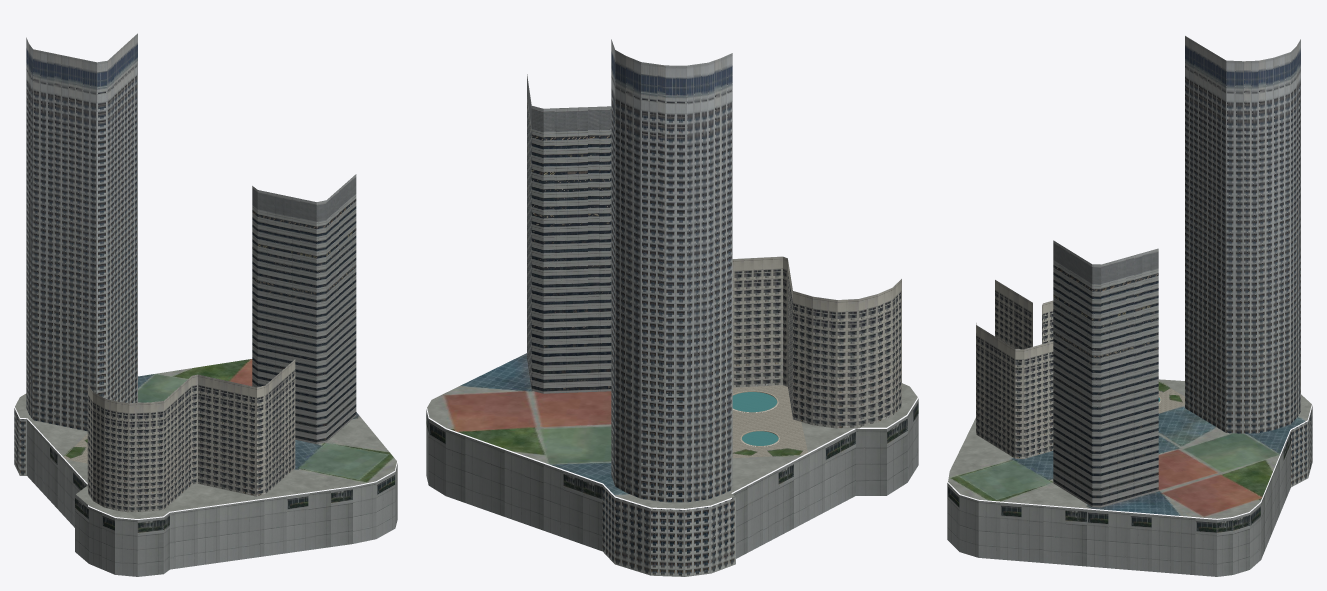
3 renders of one model, left to right at view 1: azimuth 30°, elevation 25°; view 2: azimuth 150°, elevation 25°; view 3: azimuth 270°, elevation 25°, orthographic. The views are drawn at different scales.
Parts seen in each view (by area): view 1: Stamford, Fairmont, Office, Podium, Podium deck; view 2: Stamford, Podium, Office, Fairmont, Podium deck, Pool terrace, Pool water; view 3: Stamford, Office, Podium, Podium deck, Fairmont.
Boxes of the visible parts, x1,y1,x2,y2 form: Stamford: (14, 33, 137, 475); Fairmont: (87, 359, 295, 512); Office: (252, 174, 356, 444); Podium: (27, 419, 397, 576); Podium deck: (15, 359, 396, 518); Stamford: (602, 39, 735, 576); Podium: (426, 398, 918, 558); Office: (527, 74, 611, 393); Fairmont: (732, 256, 901, 428); Podium deck: (427, 353, 917, 508); Pool terrace: (732, 385, 807, 458); Pool water: (732, 392, 778, 445); Stamford: (1185, 36, 1312, 487); Office: (1053, 240, 1158, 507); Podium: (947, 431, 1290, 576); Podium deck: (948, 379, 1311, 518); Fairmont: (976, 280, 1053, 458).
Size of the model in its own units: 175 by 226 by 174.
Materials: 8 (8 with a texture image).
